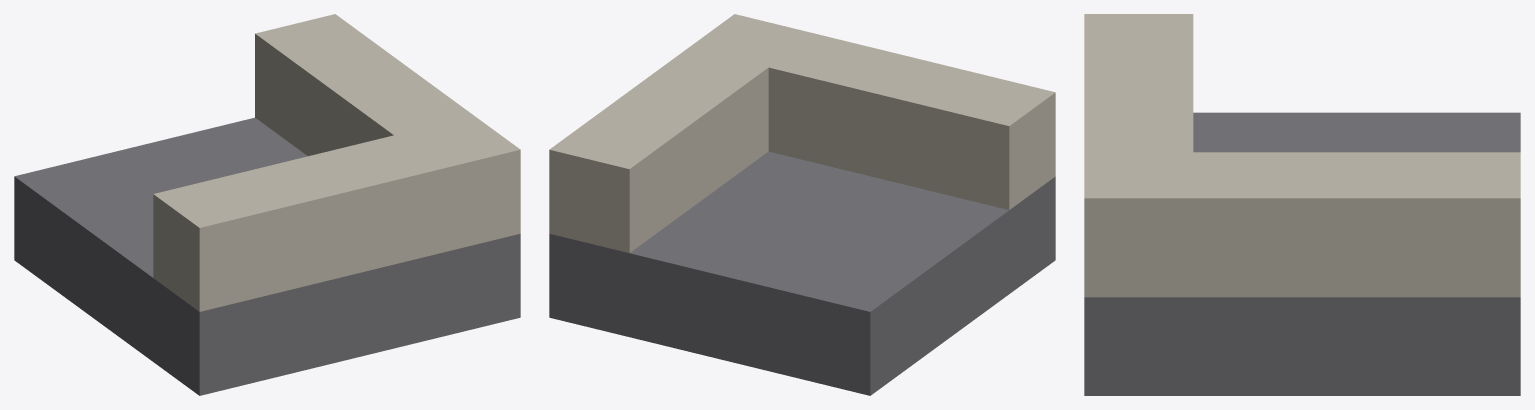
Rendered from roof_flat_corner.glb.
3 renders of one model, left to right at view 1: azimuth 30°, elevation 25°; view 2: azimuth 150°, elevation 25°; view 3: azimuth 270°, elevation 25°, orthographic. The views are drawn at different scales.
Visible parts, largest first — view 1: roof_flat_corner; view 2: roof_flat_corner; view 3: roof_flat_corner.
Part boxes in pixels (left/top/right/bottom): roof_flat_corner: left=14, top=14, right=520, bottom=395; roof_flat_corner: left=549, top=14, right=1055, bottom=395; roof_flat_corner: left=1084, top=14, right=1520, bottom=395.
Bounding box in the file's own units: 1 × 0.5 × 1.
Materials: 1 (1 with a texture image).
